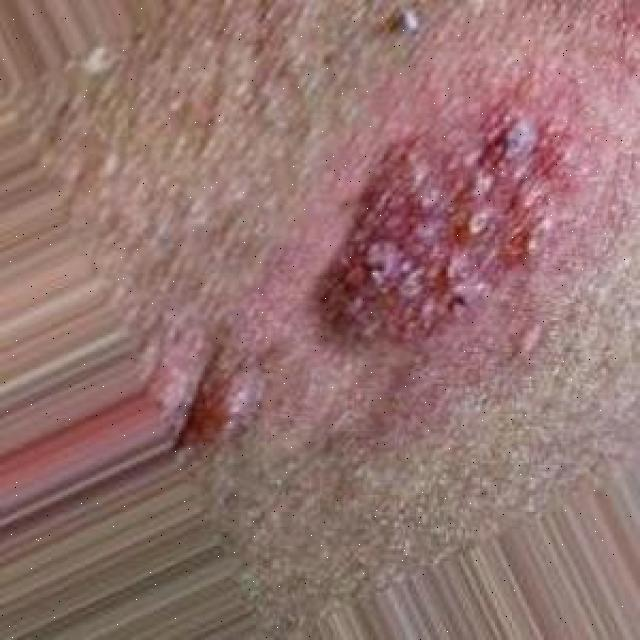Shingles: (316, 107, 574, 346)
